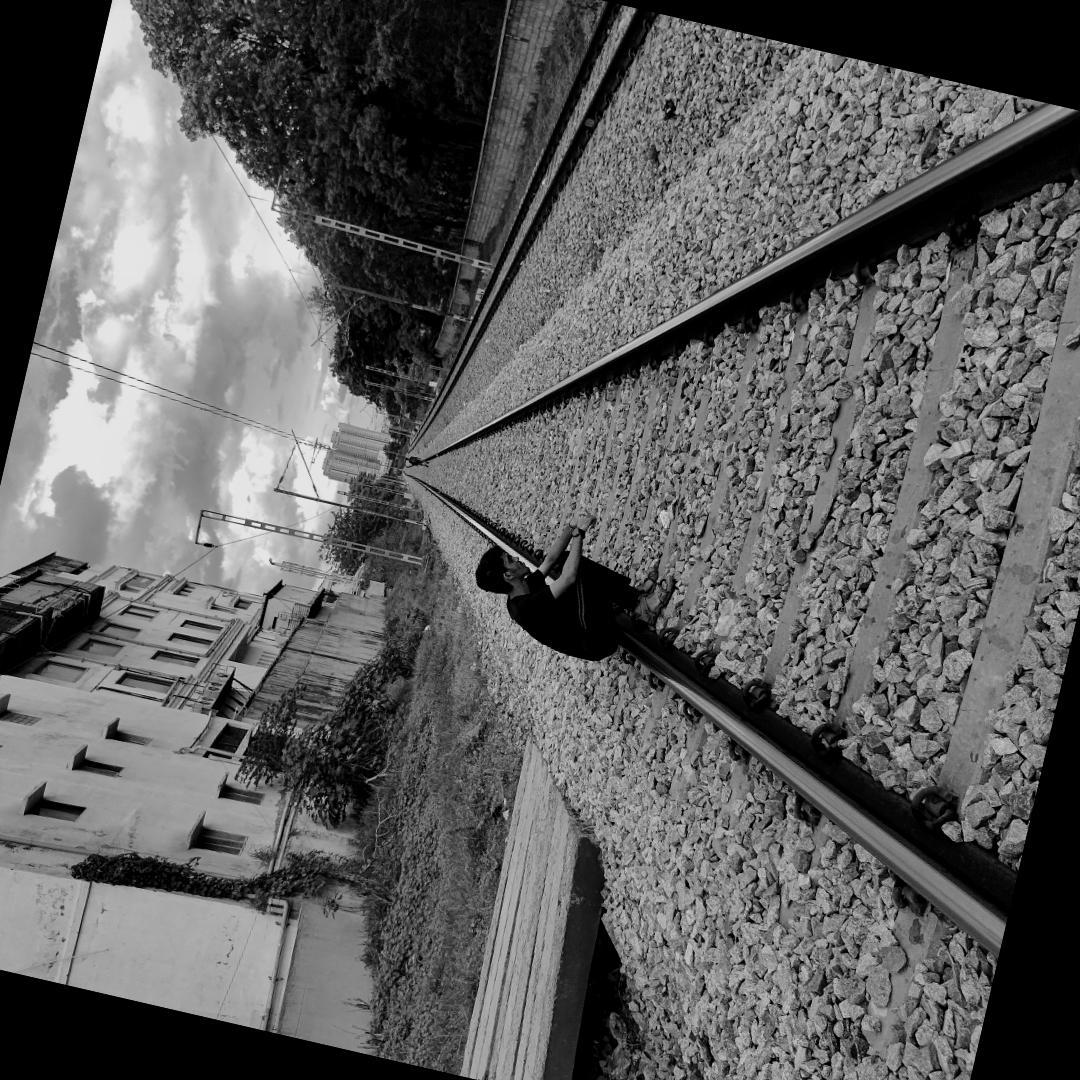sitting: (454, 475, 690, 694)
